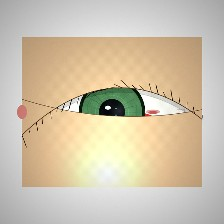hemorrhage_spot: (72, 82, 172, 162)
